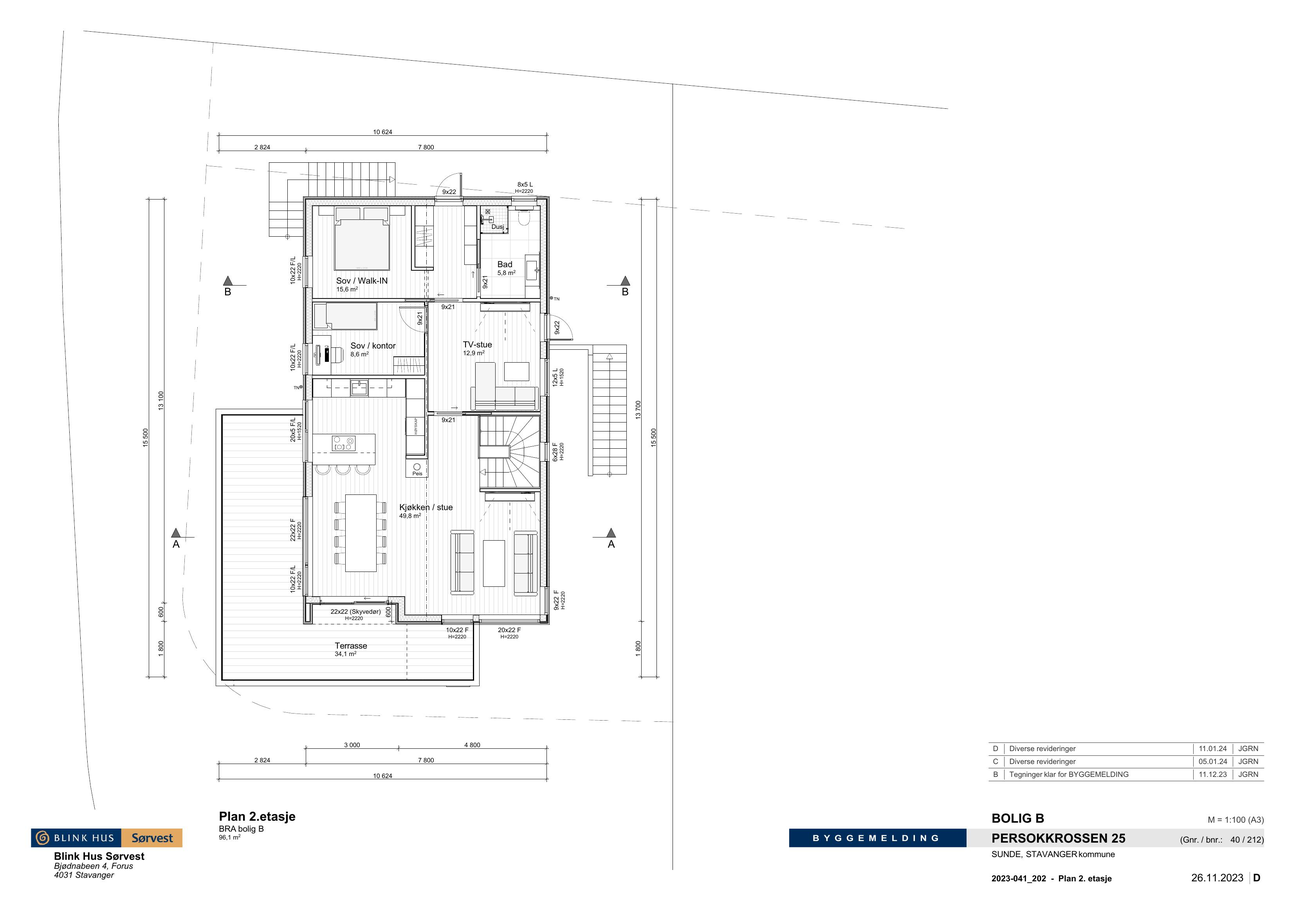plantegning: (215, 160, 572, 689)
